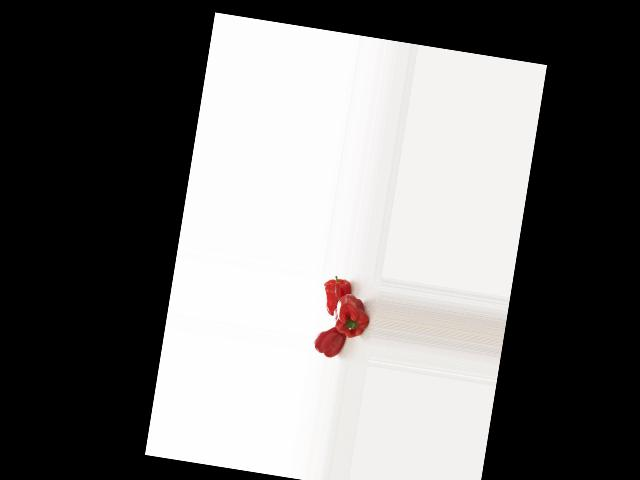bell_pepper: (311, 326, 348, 361)
